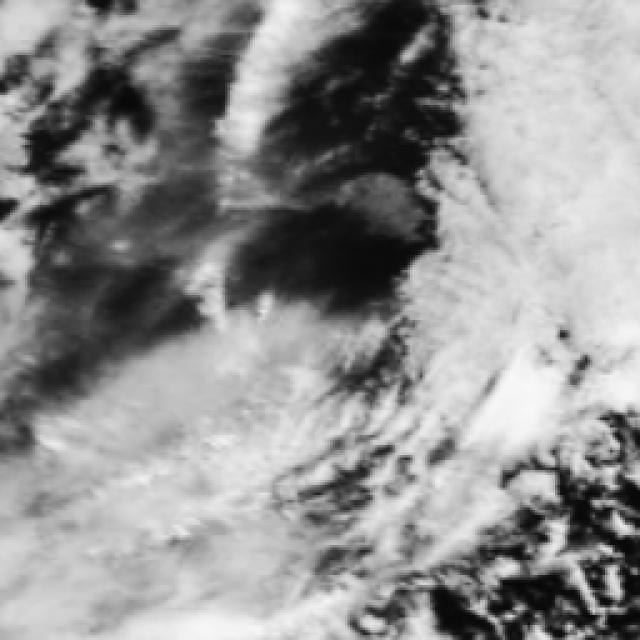CB: (93, 396, 256, 591), (507, 0, 637, 242), (465, 195, 640, 313)
